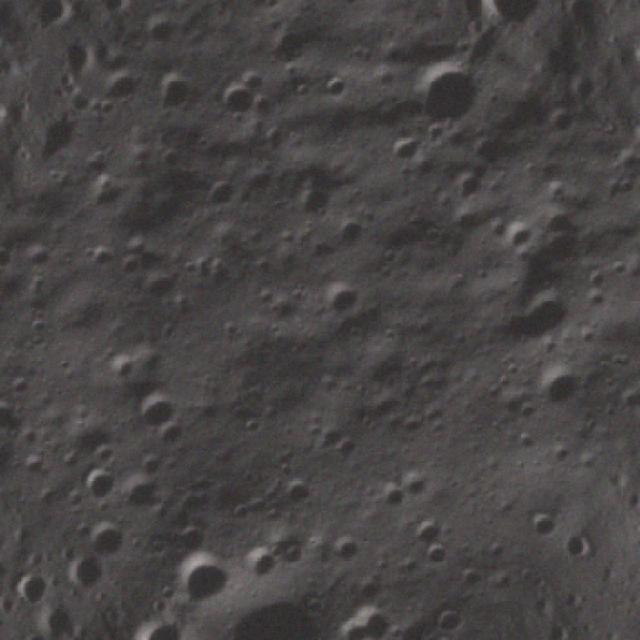crater: (218, 566, 360, 640), (390, 38, 492, 138), (483, 267, 579, 365), (158, 530, 252, 622), (115, 374, 188, 444), (133, 53, 205, 122), (523, 356, 591, 426), (129, 254, 191, 318), (88, 336, 150, 398), (398, 501, 459, 561), (72, 458, 134, 517), (336, 589, 406, 640), (82, 512, 142, 570), (318, 267, 373, 324), (519, 498, 573, 552), (81, 169, 132, 223), (0, 386, 34, 460), (211, 73, 260, 124), (362, 476, 413, 522), (426, 598, 474, 640), (414, 538, 455, 580), (0, 310, 15, 391), (637, 165, 640, 220)
